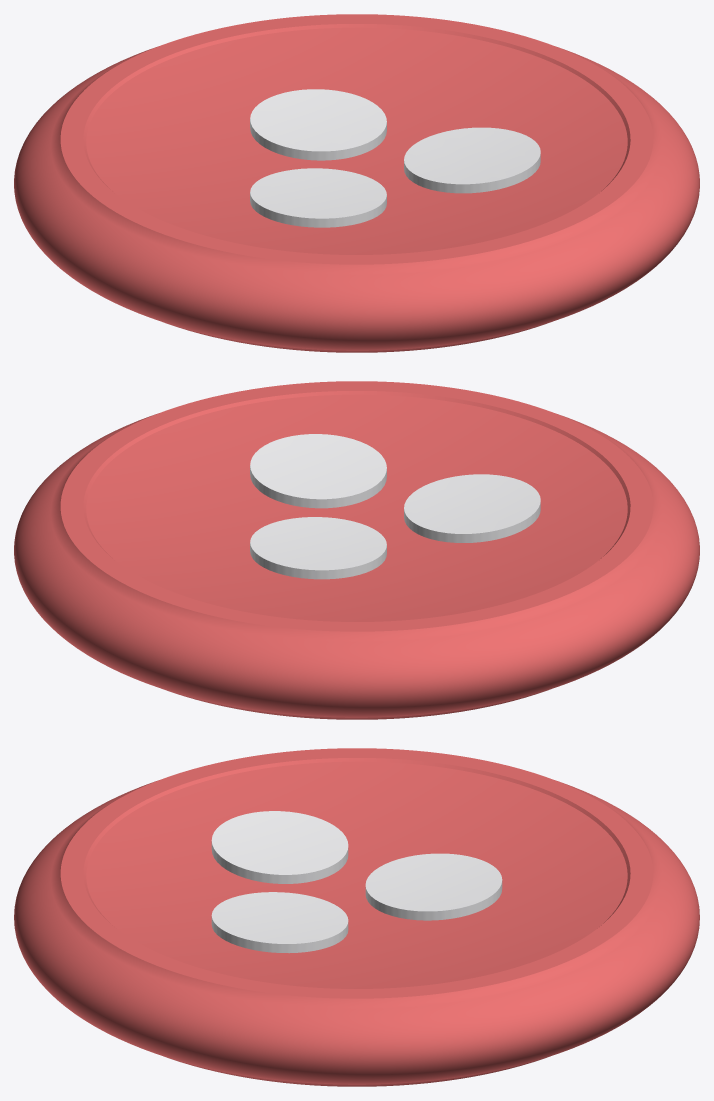
Rendered from pill-asana.glb.
The picture shows the model from 3 angles, top to bottom: view 1: azimuth 30°, elevation 25°; view 2: azimuth 150°, elevation 25°; view 3: azimuth 270°, elevation 25°; orthographic projection.
Parts seen in each view (by area): view 1: puck, mark; view 2: puck, mark; view 3: puck, mark.
Part boxes in pixels (x1,y1,x2,y2): puck: [14, 14, 699, 352]; mark: [250, 89, 540, 227]; puck: [14, 381, 699, 719]; mark: [250, 434, 540, 579]; puck: [14, 748, 699, 1086]; mark: [211, 811, 502, 953].
Size of the model in its own units: 0.024 by 0.0034 by 0.024.
